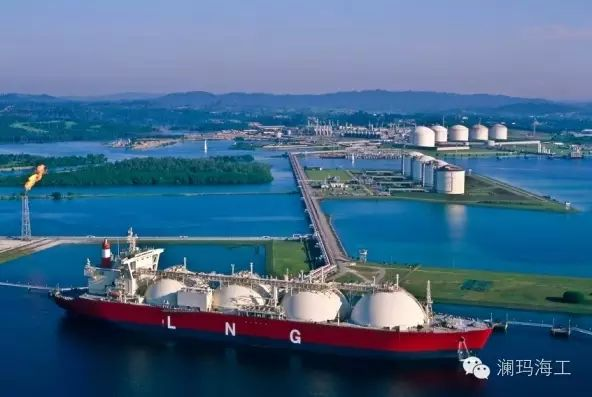airplane: (52, 231, 494, 352)
